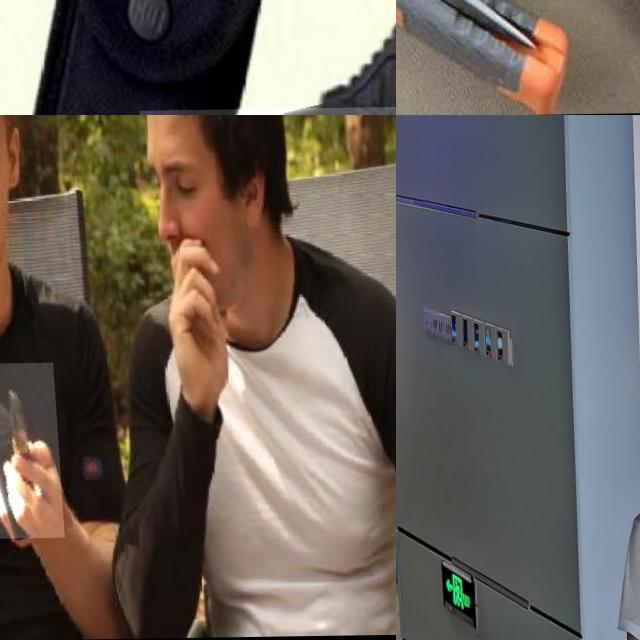-: (396, 0, 543, 115), (0, 363, 57, 539)
